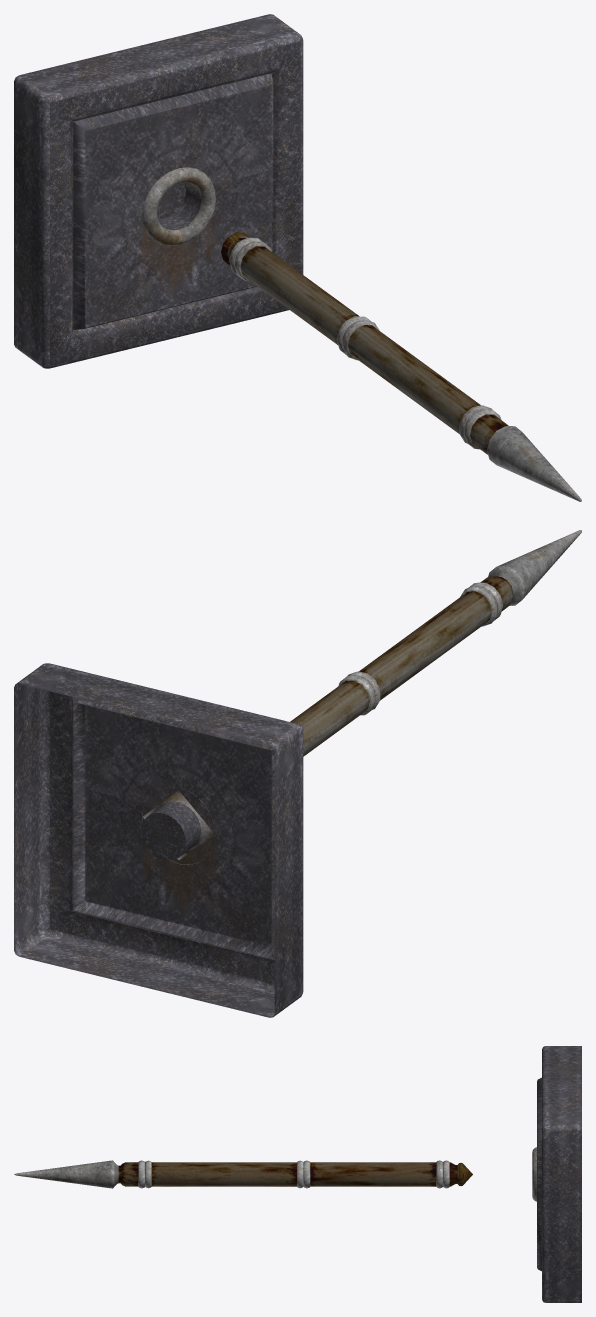
Rendered from Spear Trap_export.fbx.
3 views of the same model, one above another, from view 1: azimuth 30°, elevation 25°; view 2: azimuth 150°, elevation 25°; view 3: azimuth 270°, elevation 25° (orthographic). The views are drawn at different scales.
Visible parts, largest first — view 1: SpearTrap_01.002, Spear_ammo.002; view 2: SpearTrap_01.002, Spear_ammo.002; view 3: SpearTrap_01.002, Spear_ammo.002.
Part boxes in pixels (<box>): SpearTrap_01.002: <box>14,14,303,368</box>; Spear_ammo.002: <box>221,232,581,501</box>; SpearTrap_01.002: <box>14,663,303,1017</box>; Spear_ammo.002: <box>290,530,581,756</box>; SpearTrap_01.002: <box>532,1046,581,1302</box>; Spear_ammo.002: <box>14,1160,472,1188</box>.
Size of the model in its own units: 0.36 by 0.36 by 1.05.
1 material, 1 textured.
